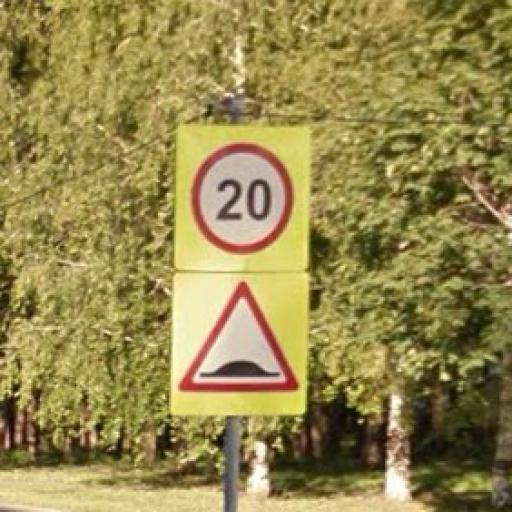traffic_sign: (179, 282, 302, 397), (192, 143, 293, 256)
